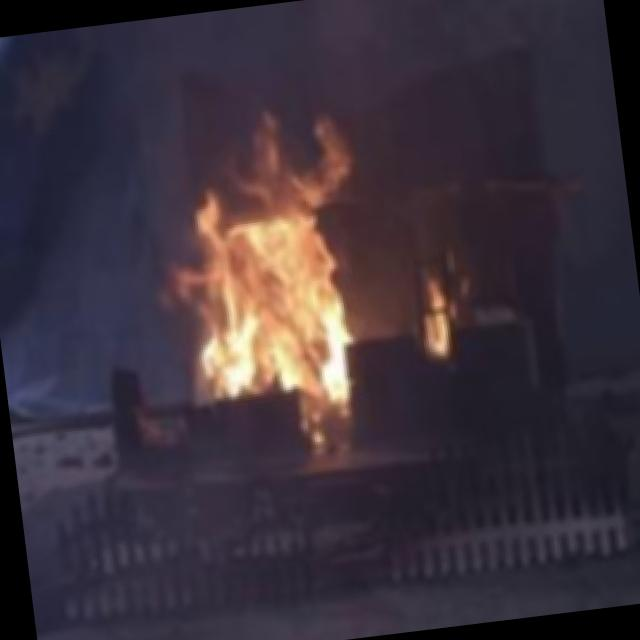fire: (147, 100, 384, 453)
